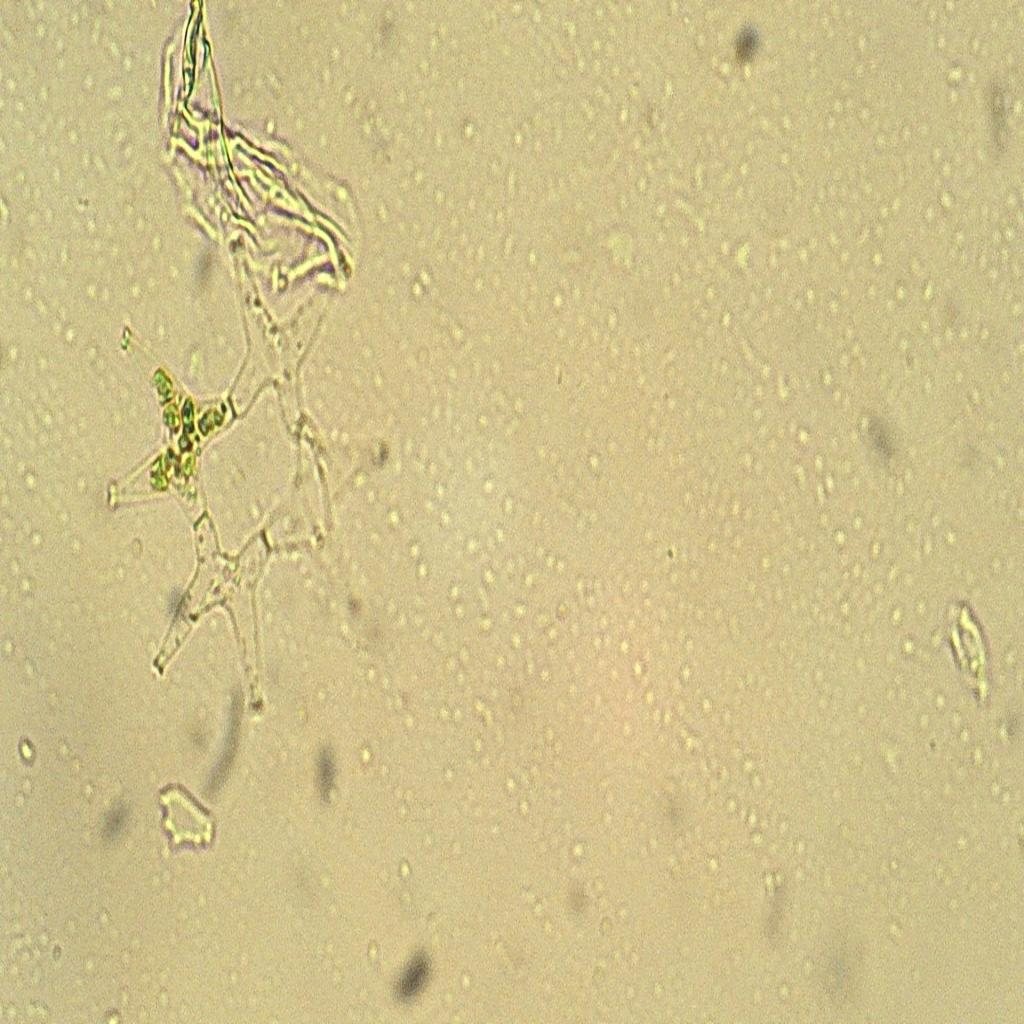Pediastrum_1F0: (88, 229, 408, 741)
